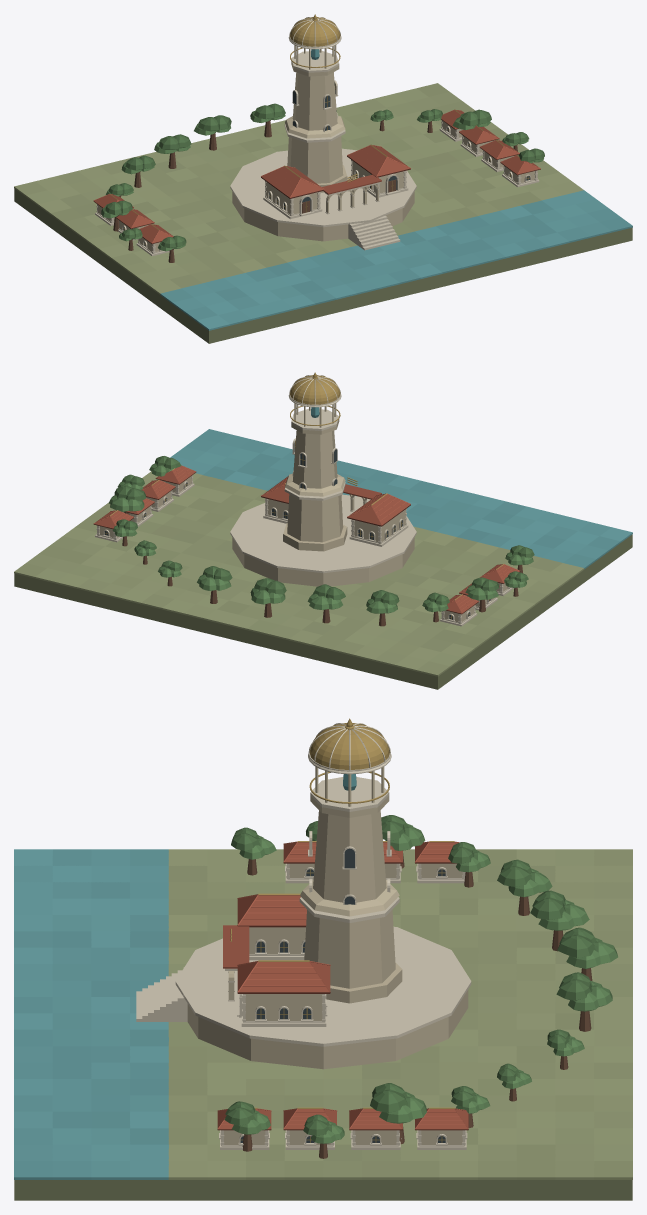
Rendered from lighthouse.glb.
The picture shows the model from 3 angles, top to bottom: view 1: azimuth 30°, elevation 25°; view 2: azimuth 150°, elevation 25°; view 3: azimuth 270°, elevation 25°; orthographic projection. The views are drawn at different scales.
Visible parts, largest first — view 1: site, headland, landscape, tower, keepers-roof, landscape-roof, keepers, tower-roof; view 2: site, landscape, headland, tower, landscape-roof, keepers-roof, keepers, tower-roof; view 3: site, headland, landscape, tower, keepers-roof, landscape-roof, keepers, tower-roof.
Part boxes in pixels (<box>): site: <box>14,83,632,343</box>; headland: <box>230,148,416,250</box>; landscape: <box>95,103,544,262</box>; tower: <box>284,45,347,192</box>; keepers-roof: <box>261,144,410,198</box>; landscape-roof: <box>93,109,540,243</box>; keepers: <box>263,160,408,219</box>; tower-roof: <box>288,14,341,49</box>; site: <box>14,429,632,689</box>; landscape: <box>95,456,534,626</box>; headland: <box>230,494,416,586</box>; tower: <box>283,403,347,551</box>; landscape-roof: <box>93,465,520,614</box>; keepers-roof: <box>261,476,410,526</box>; keepers: <box>263,494,408,546</box>; tower-roof: <box>288,372,341,407</box>; site: <box>14,849,632,1200</box>; headland: <box>136,926,471,1069</box>; landscape: <box>219,815,617,1158</box>; tower: <box>299,766,402,1003</box>; keepers-roof: <box>223,893,330,993</box>; landscape-roof: <box>217,841,468,1130</box>; keepers: <box>225,927,327,1026</box>; tower-roof: <box>308,718,391,774</box>.
Bounding box in the file's own units: 59.01 × 26.72 × 47.06.
